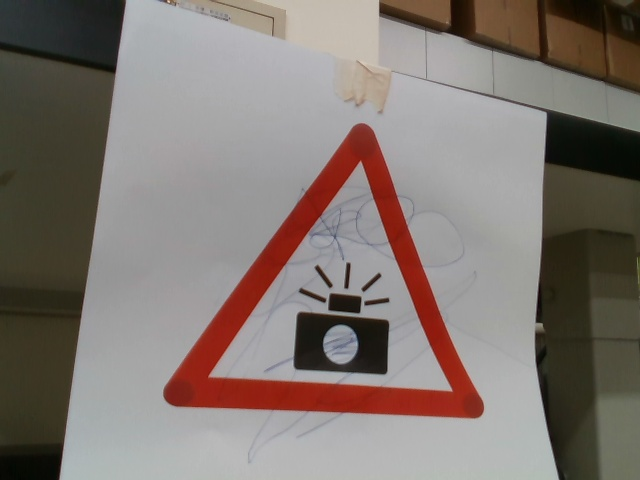camera: (158, 119, 488, 427)
